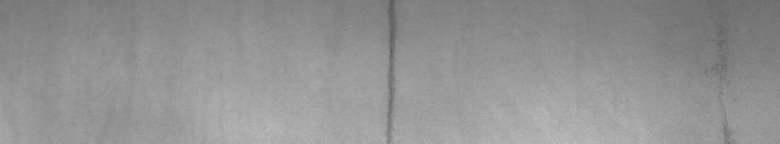hd: (384, 4, 399, 136)
